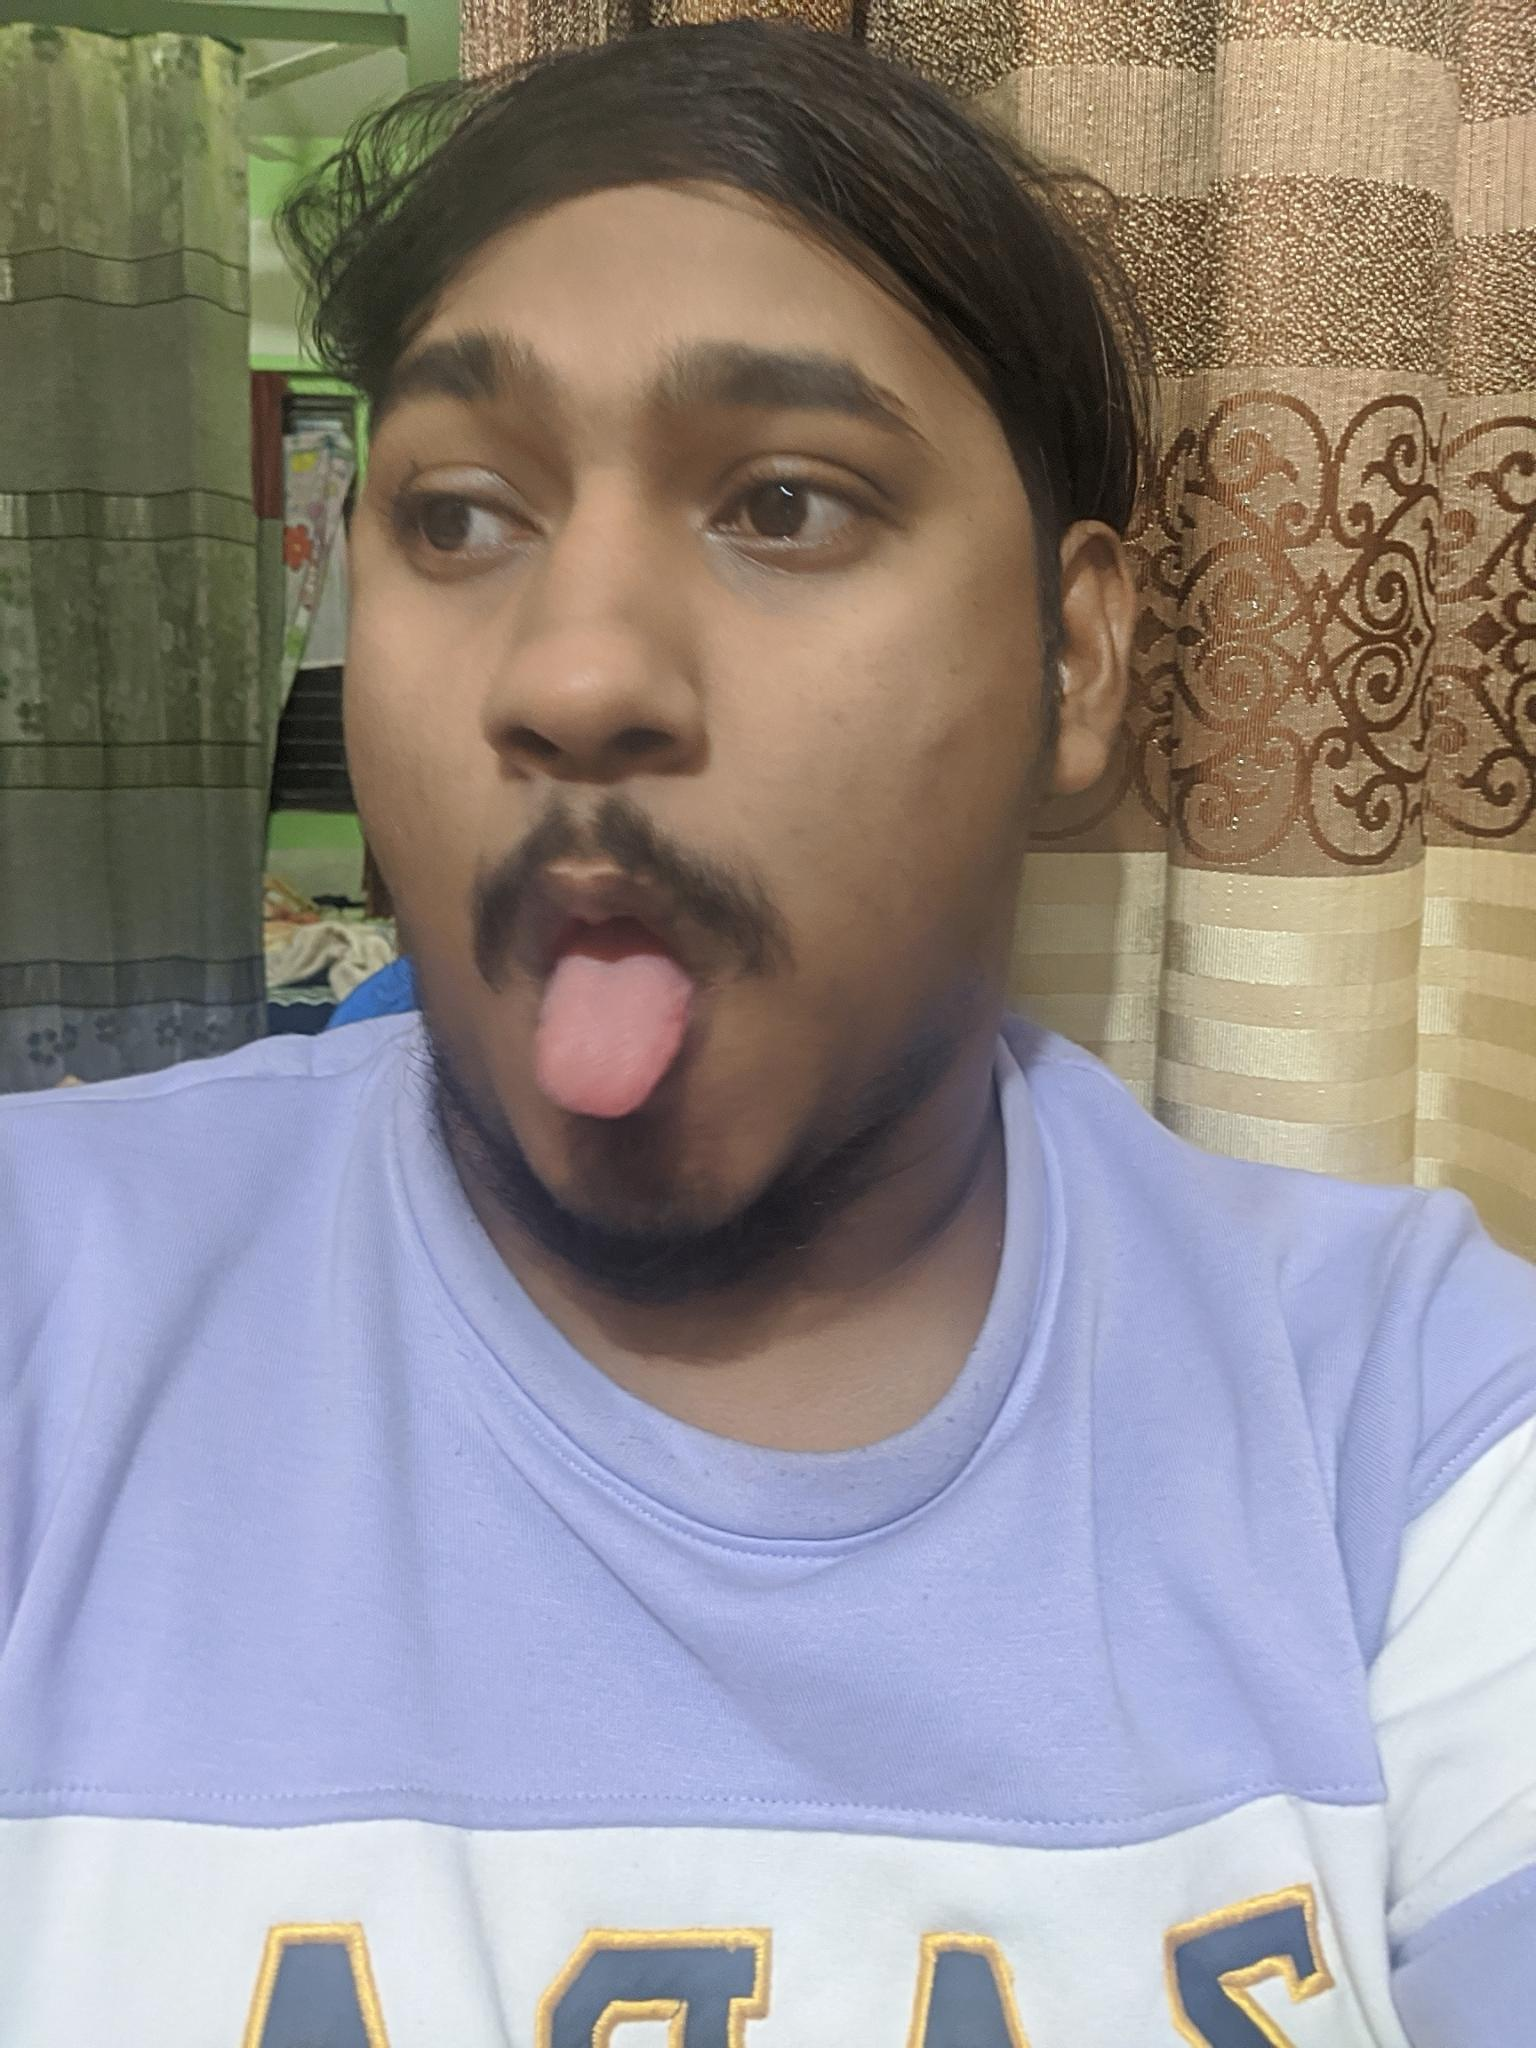Disgust: (298, 240, 995, 1251)
